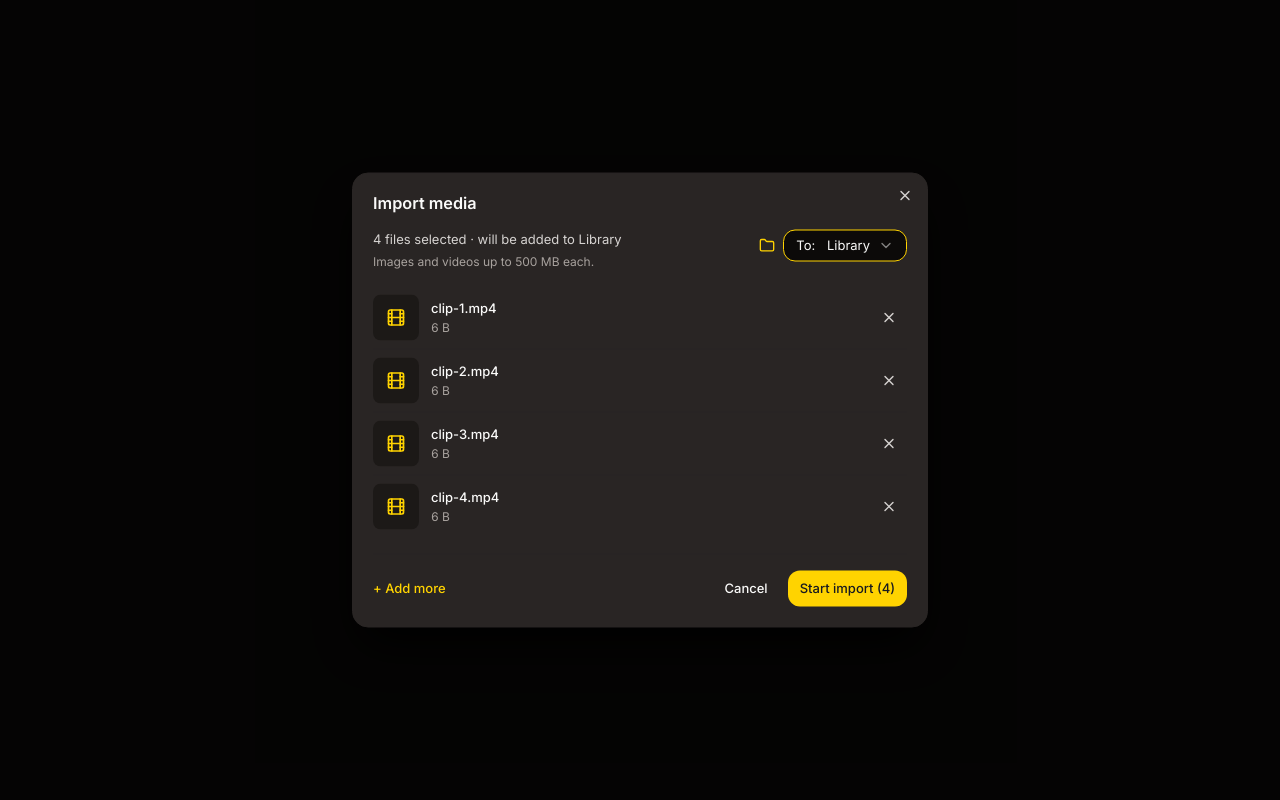
Test: MediaImportModal — progress (PB-3/PB-18) › pause holds a file, cancel drops a queued file, and the summary counts only uploads
Click the button with test id "start-import-btn": (847, 588) [788,570,907,606]
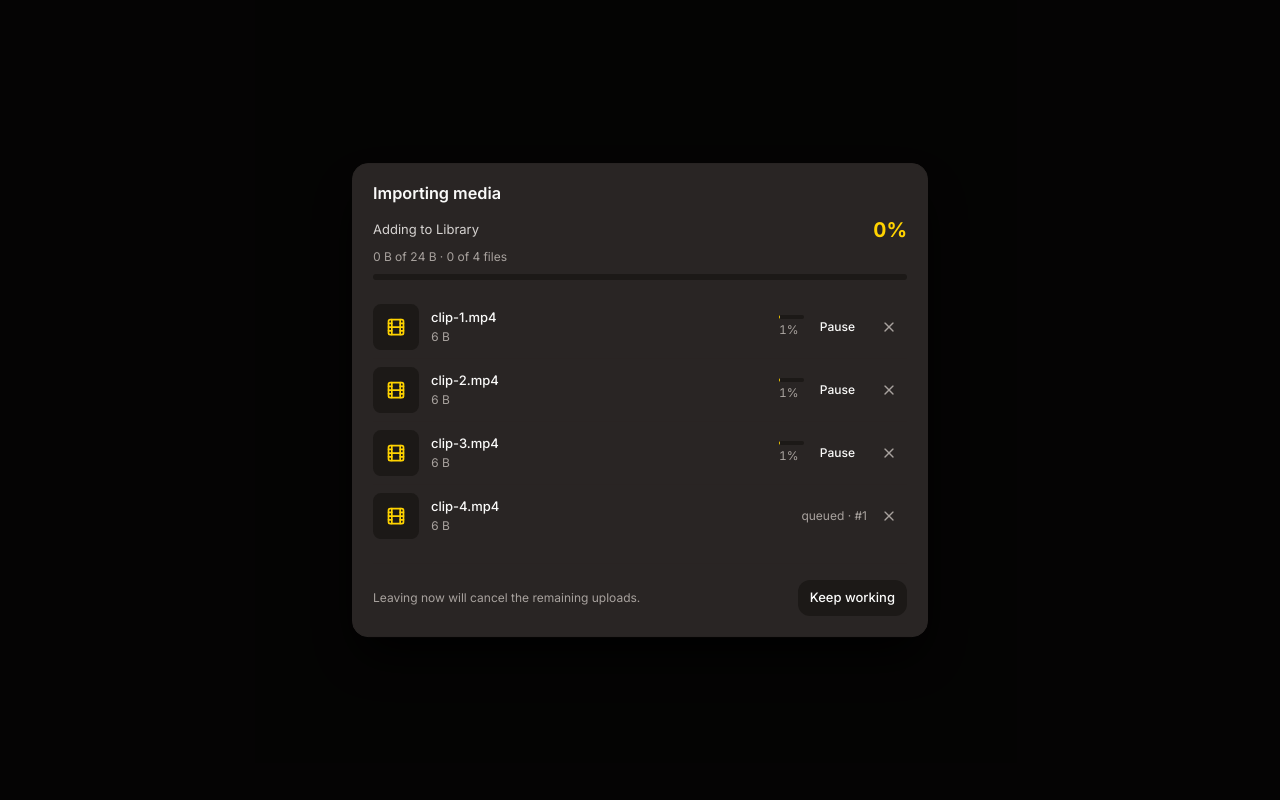
Now the text "queued · #1" is shown, box [801,507,867,525]
Note: Cancel the queued file.
Click the button named "Cancel clip-4.mp4": (889, 516) [871,498,907,534]
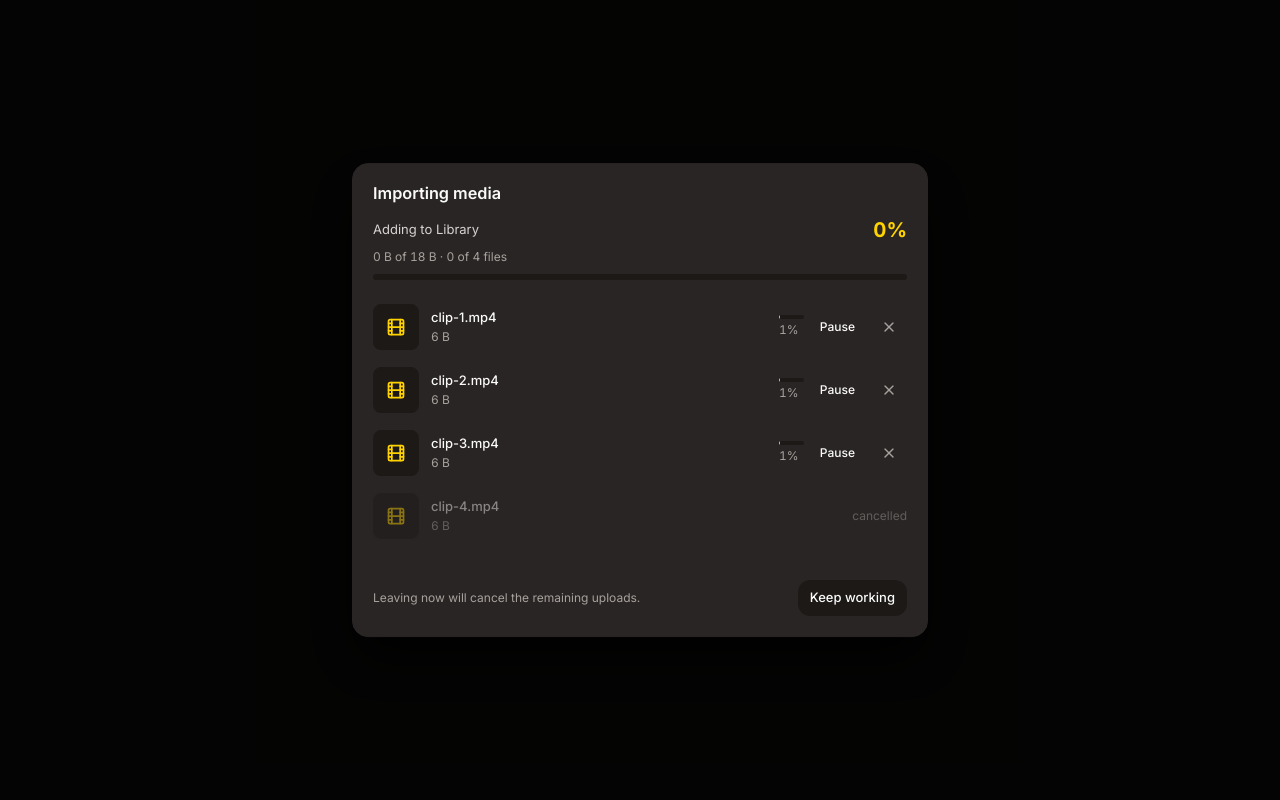
Now the button with test id "^pause-upload-" is shown
Now the text "cancelled" is shown, box [852,507,907,525]
Click the button with test id "^pause-upload-": (837, 327) [808,311,867,343]
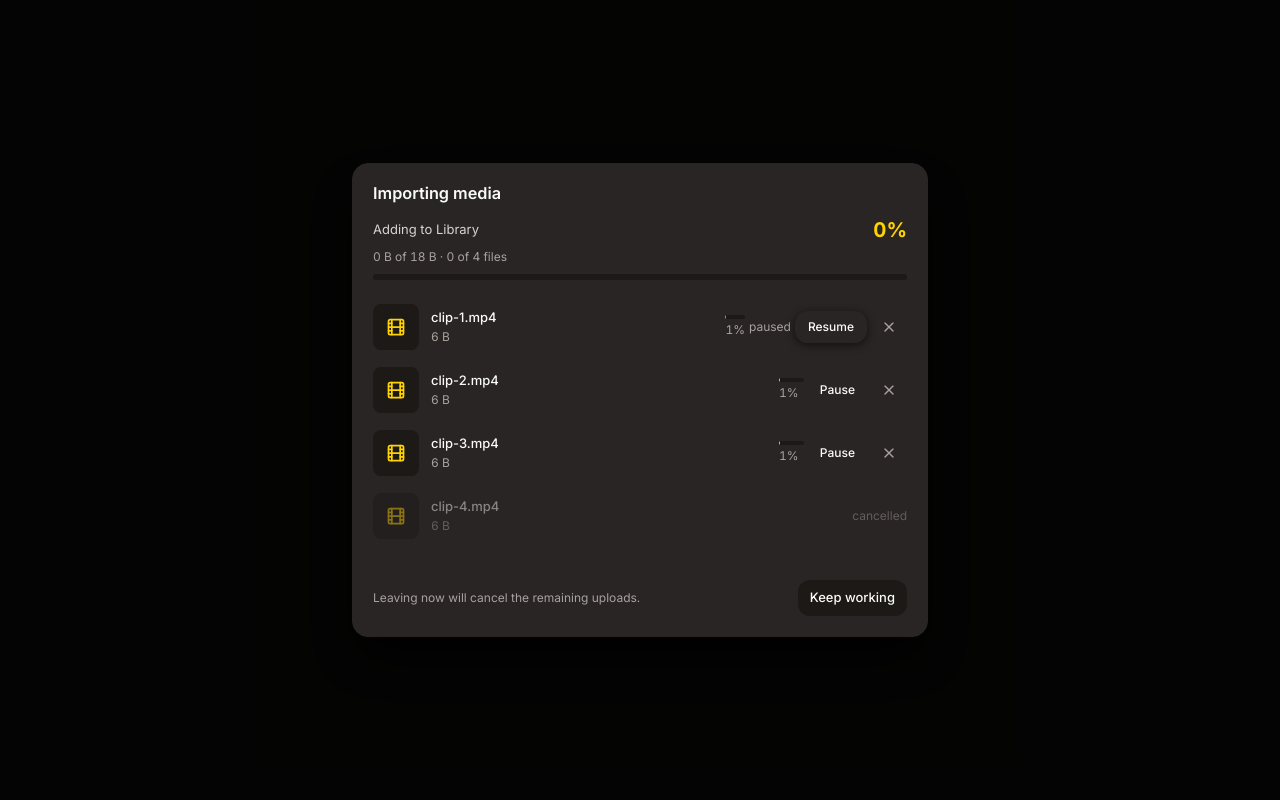
Now the text "paused" is shown, box [749,318,791,336]
Now the button with test id "^resume-upload-" is shown, box [795,311,867,343]
